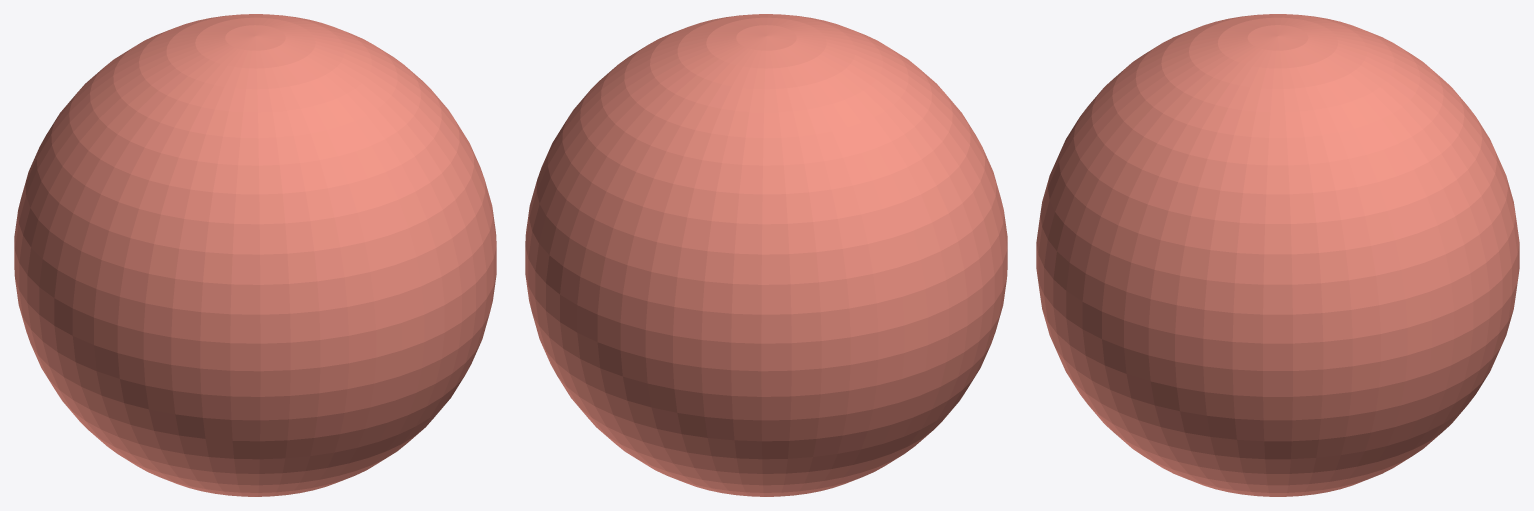
File: shell.glb
3 renders of one model, left to right at view 1: azimuth 30°, elevation 25°; view 2: azimuth 150°, elevation 25°; view 3: azimuth 270°, elevation 25°, orthographic.
Visible parts, largest first — view 1: Сфера; view 2: Сфера; view 3: Сфера.
Part boxes in pixels (bbox=[...]): Сфера: bbox=[14, 14, 496, 496]; Сфера: bbox=[525, 14, 1007, 496]; Сфера: bbox=[1036, 14, 1519, 496].
Bounding box in the file's own units: 0.9961 × 1 × 0.998.
